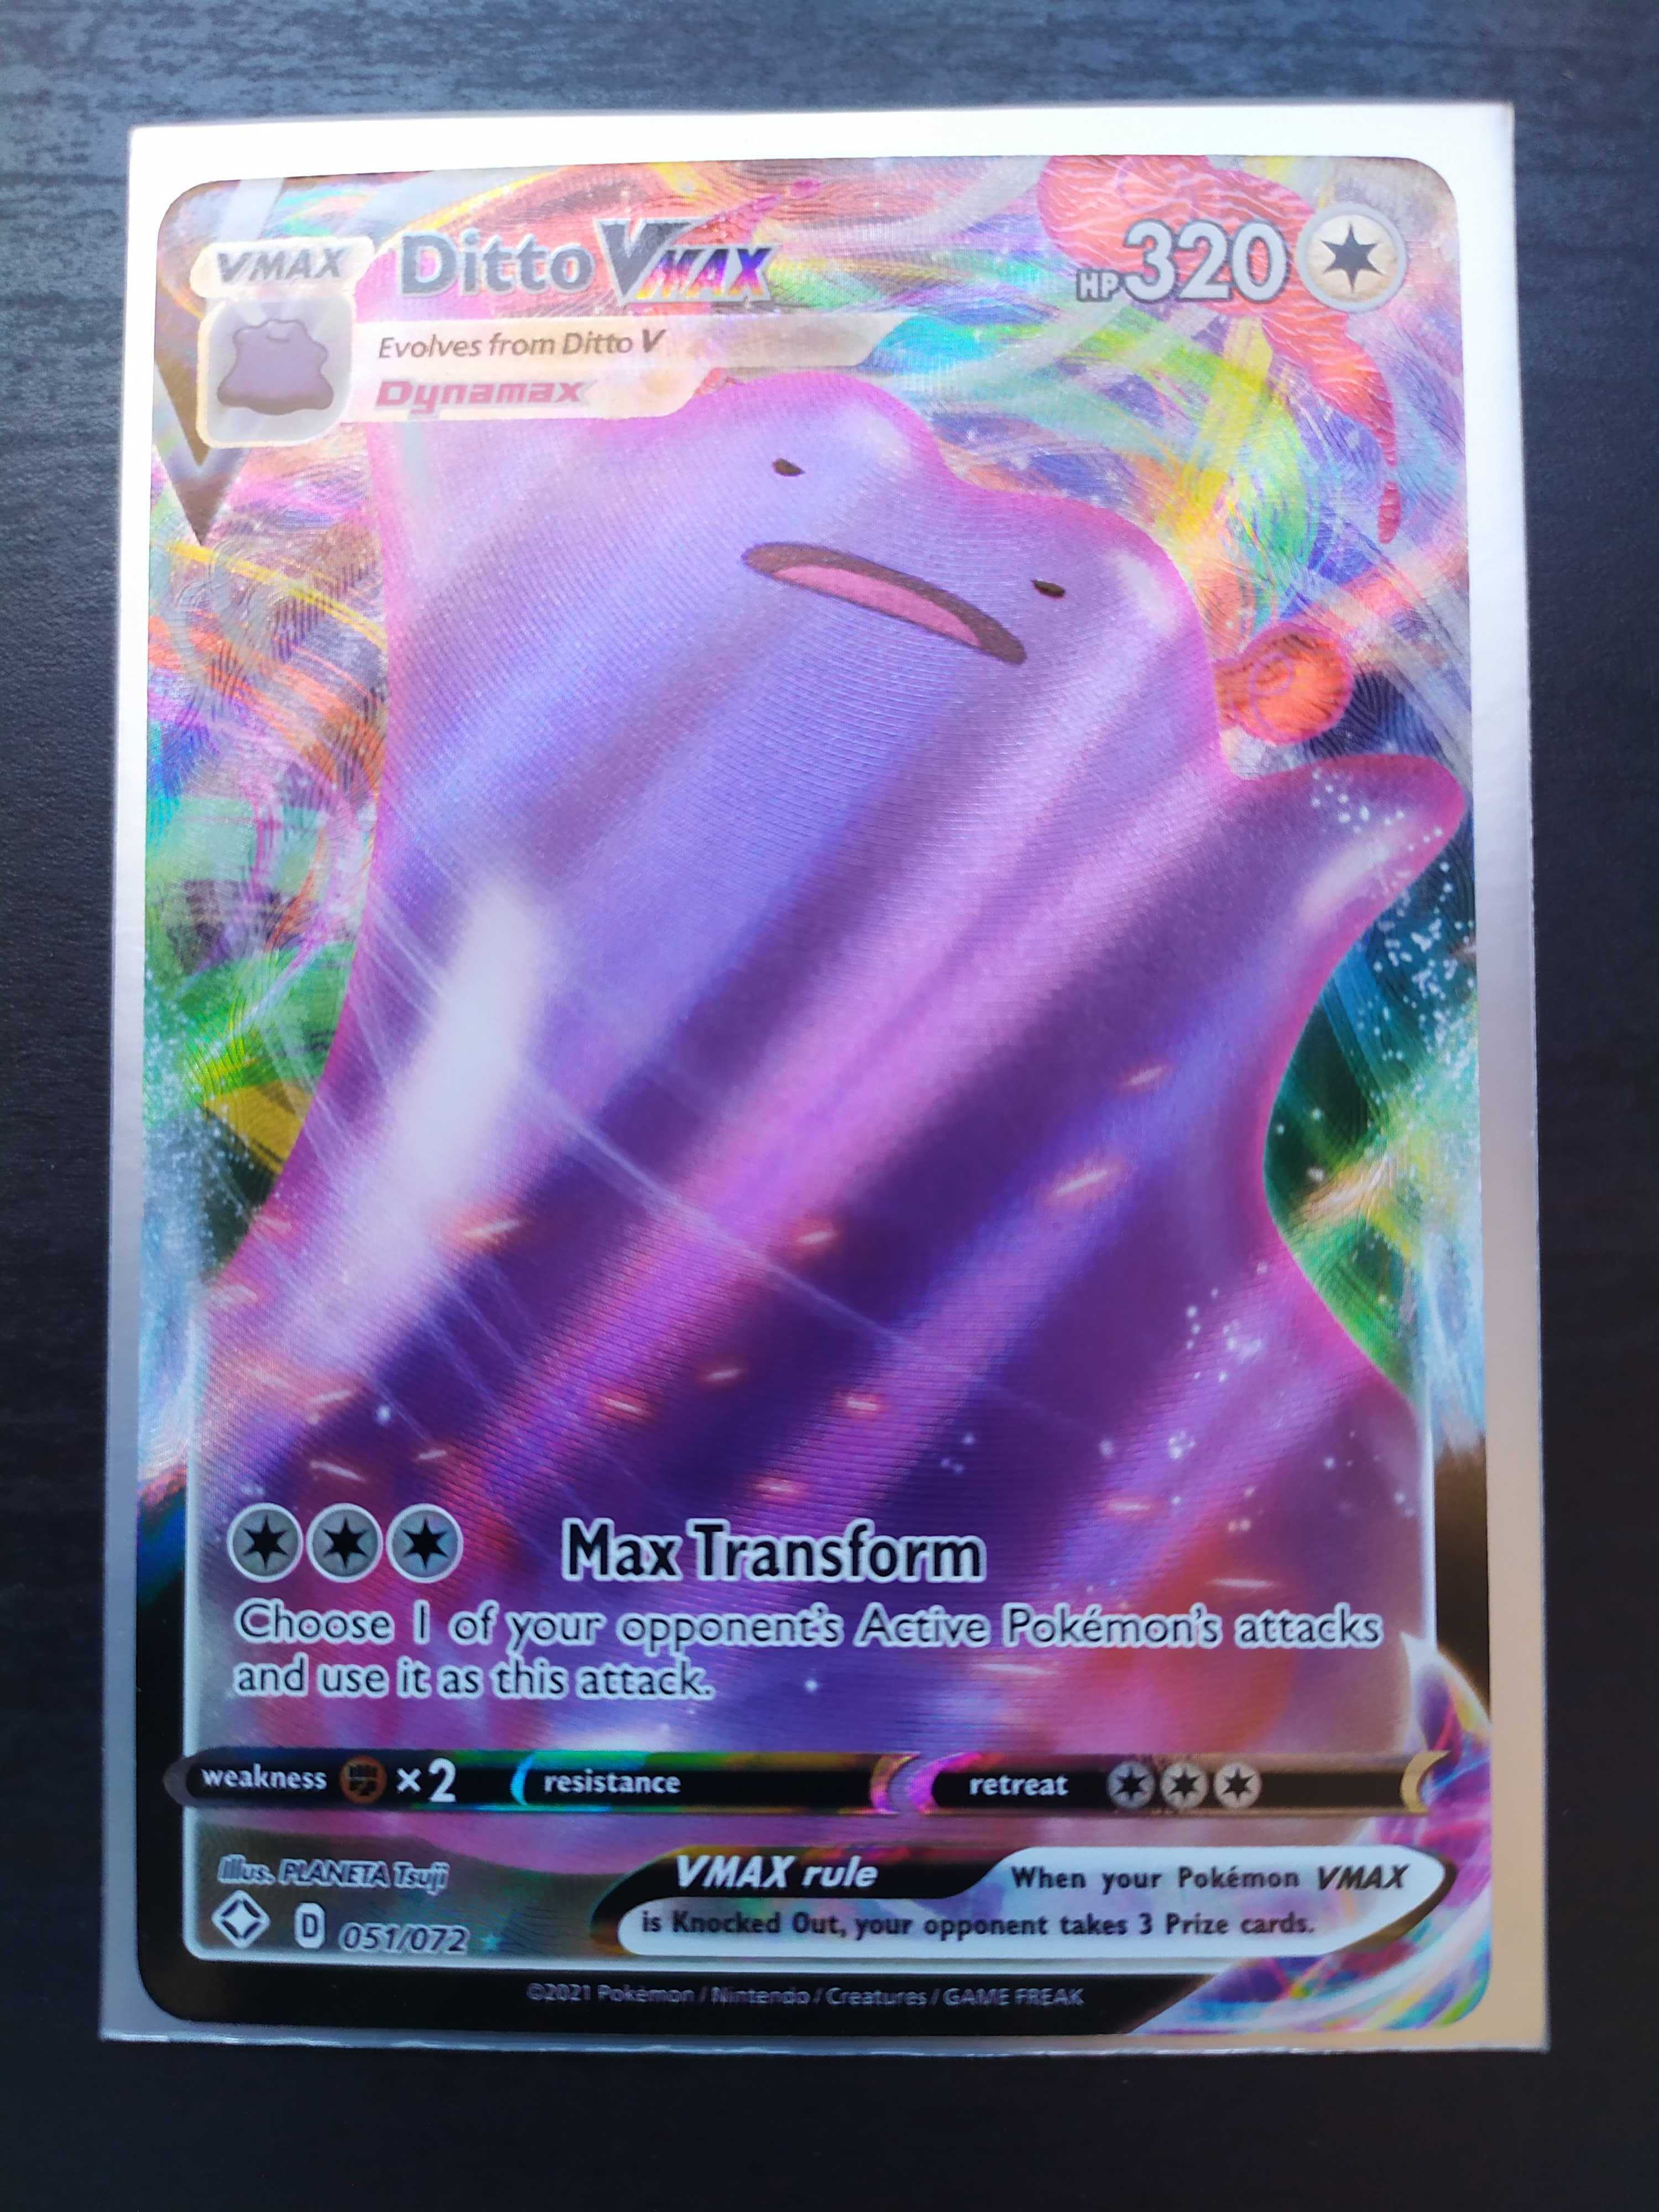collector_number: (335, 1921, 476, 1959)
full_card: (134, 157, 1492, 2029)
name: (399, 223, 782, 303)
set_icon: (213, 1890, 270, 1949)
